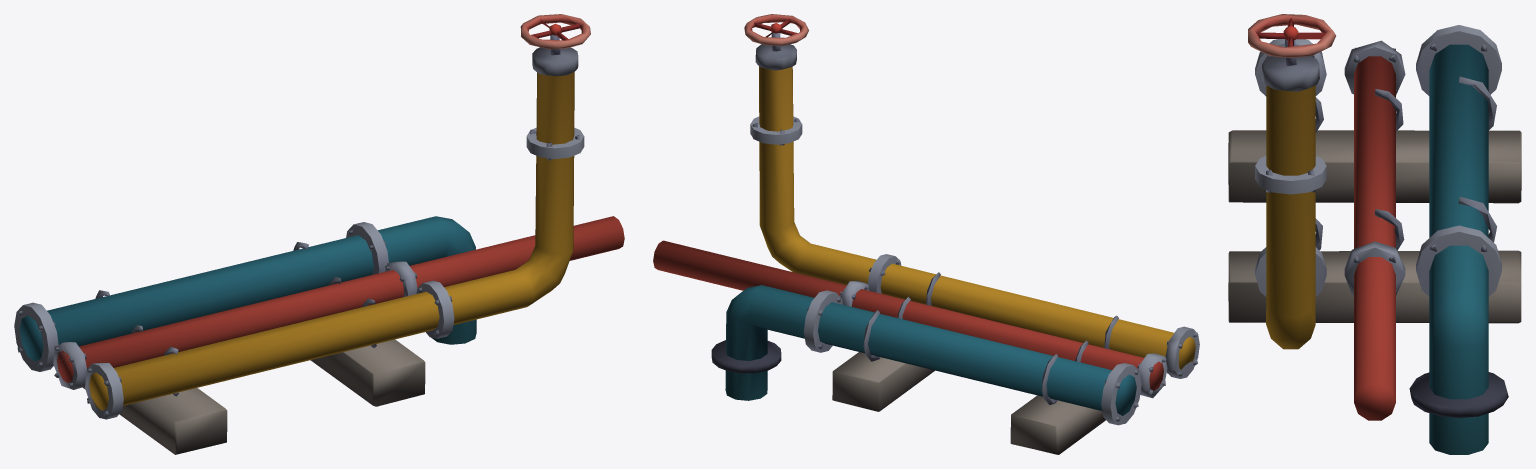
File: tuyaux.glb
The picture shows the model from 3 angles, left to right: view 1: azimuth 30°, elevation 25°; view 2: azimuth 150°, elevation 25°; view 3: azimuth 270°, elevation 25°; orthographic projection. The views are drawn at different scales.
Visible parts, largest first — view 1: tuyaux; view 2: tuyaux; view 3: tuyaux.
Part boxes in pixels (bbox=[...]): tuyaux: bbox=[14, 14, 624, 454]; tuyaux: bbox=[653, 14, 1199, 454]; tuyaux: bbox=[1228, 14, 1521, 454].
Bounding box in the file's own units: 3.22 × 1.95 × 1.19.
